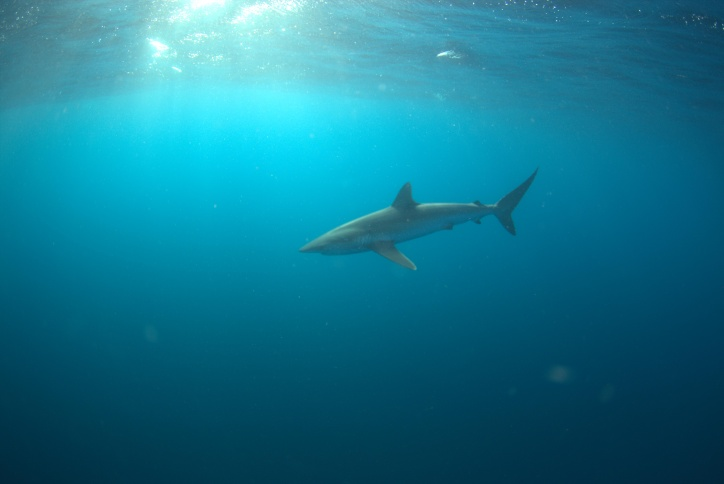Sedoso: (298, 147, 554, 272)
